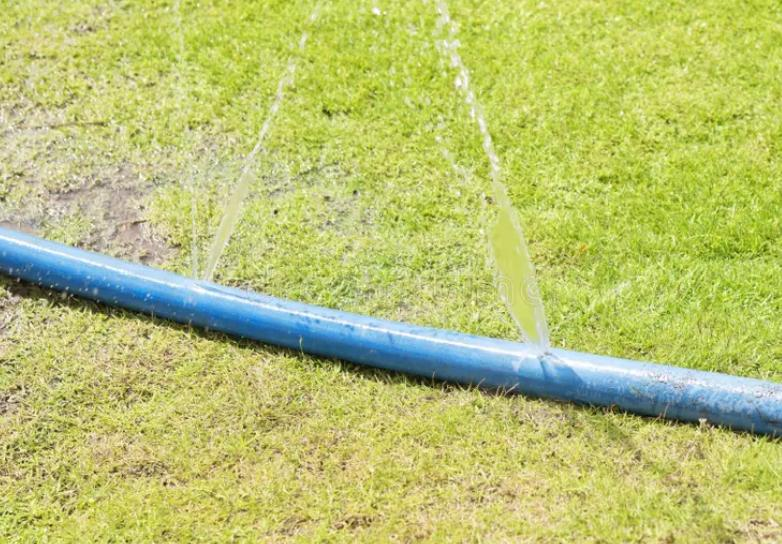pipe burst: (398, 0, 554, 363), (183, 0, 330, 294)
